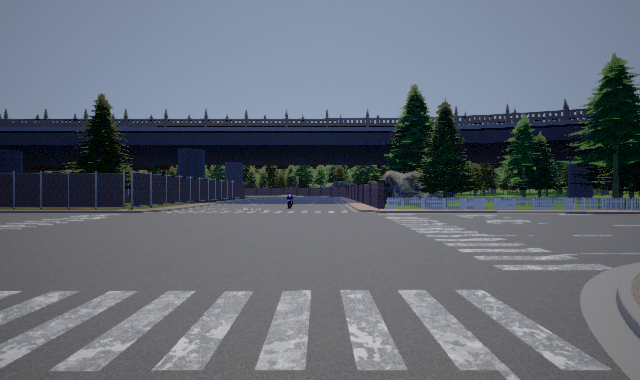motobike: (285, 194, 295, 208)
